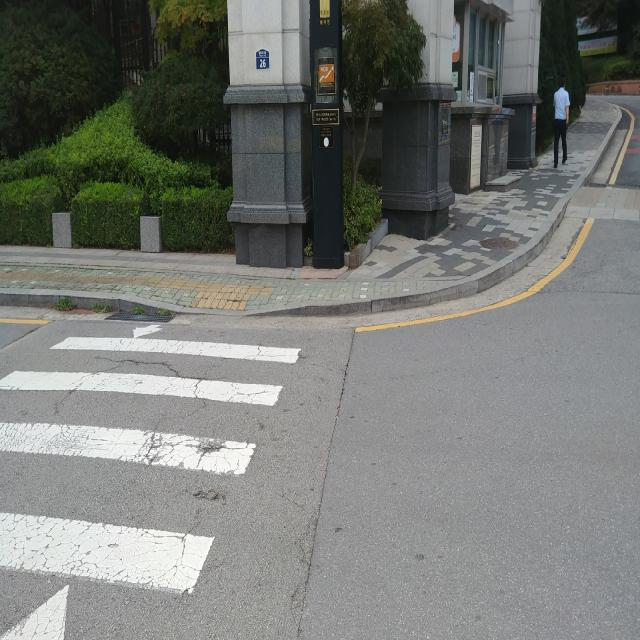횡단보도: (0, 323, 302, 640)
